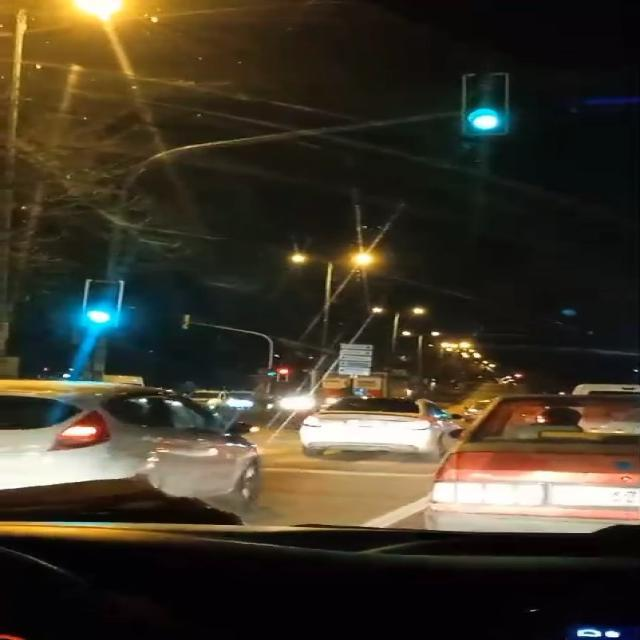yesil: (465, 72, 506, 135), (85, 280, 120, 327)
